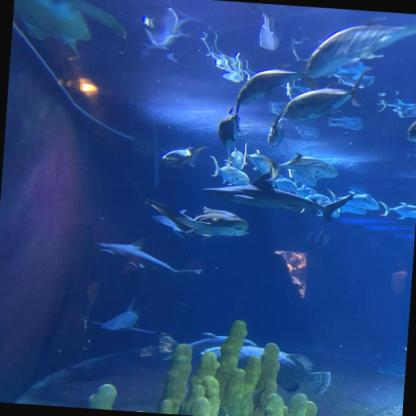fish: (303, 7, 415, 87), (197, 343, 332, 395), (283, 64, 368, 125), (163, 328, 258, 368), (236, 66, 294, 113), (257, 151, 334, 177), (208, 156, 250, 187), (325, 188, 367, 216), (218, 108, 242, 150), (162, 144, 204, 168), (241, 148, 272, 176), (267, 108, 286, 147), (379, 201, 415, 221), (345, 192, 381, 212), (224, 147, 247, 170), (288, 172, 318, 186), (270, 176, 297, 191), (289, 184, 317, 198), (406, 109, 416, 144), (304, 194, 331, 206), (318, 204, 341, 218)
shark: (202, 168, 354, 224), (96, 235, 203, 277), (143, 198, 250, 239), (91, 294, 156, 335)
